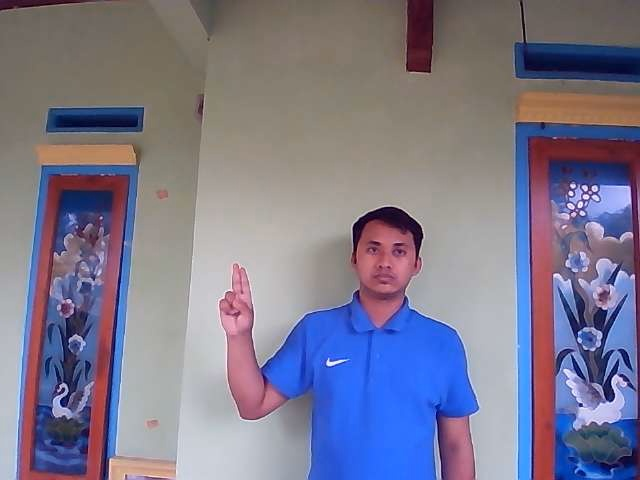U: (217, 262, 255, 337)
